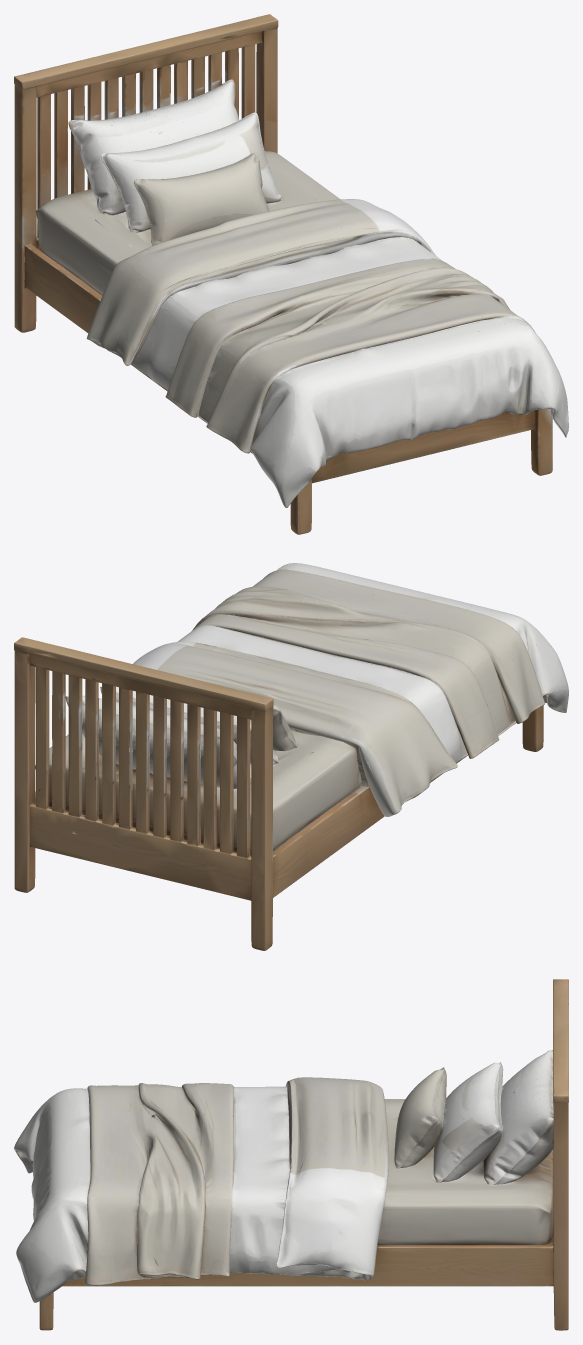
Rendered from alt_bed_oak.glb.
3 views of the same model, one above another, from view 1: azimuth 30°, elevation 25°; view 2: azimuth 150°, elevation 25°; view 3: azimuth 270°, elevation 25° (orthographic). The views are drawn at different scales.
Parts seen in each view (by area): view 1: node_0; view 2: node_0; view 3: node_0.
Boxes of the visible parts, x1,y1,x2,y2 form: node_0: (14, 14, 568, 534); node_0: (14, 563, 568, 950); node_0: (14, 979, 568, 1330).
Size of the model in its own units: 0.6472 by 0.4647 by 0.9913.
1 material, 1 textured.
